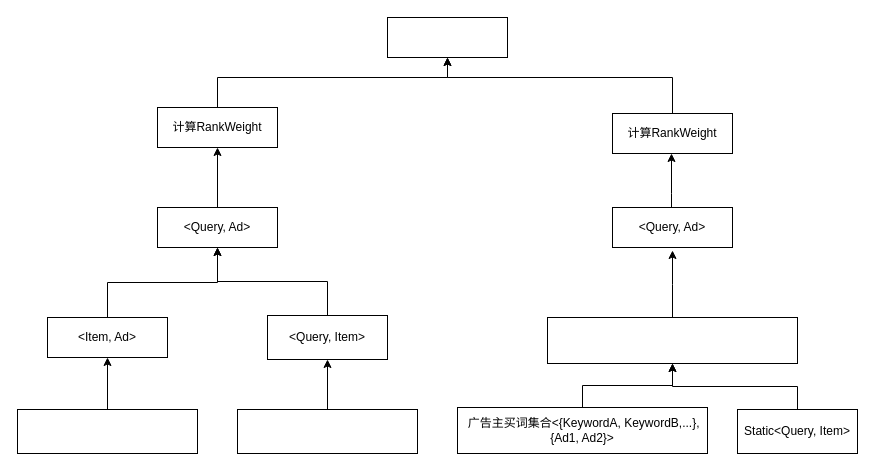
The diagram is 875 pixels wide and 471 high, and some of its shapes have lost their labels. Each missing label, with the centre of its shape:
<Query, BestBidKeyword, BestStaticAd>: (672,340)
algo.i2i_wbcossim_ipv_v2_acc: (107,431)
按照RankWeight Merge，取Top70: (447,37)
统计14天的Query点击日志: (327,431)
